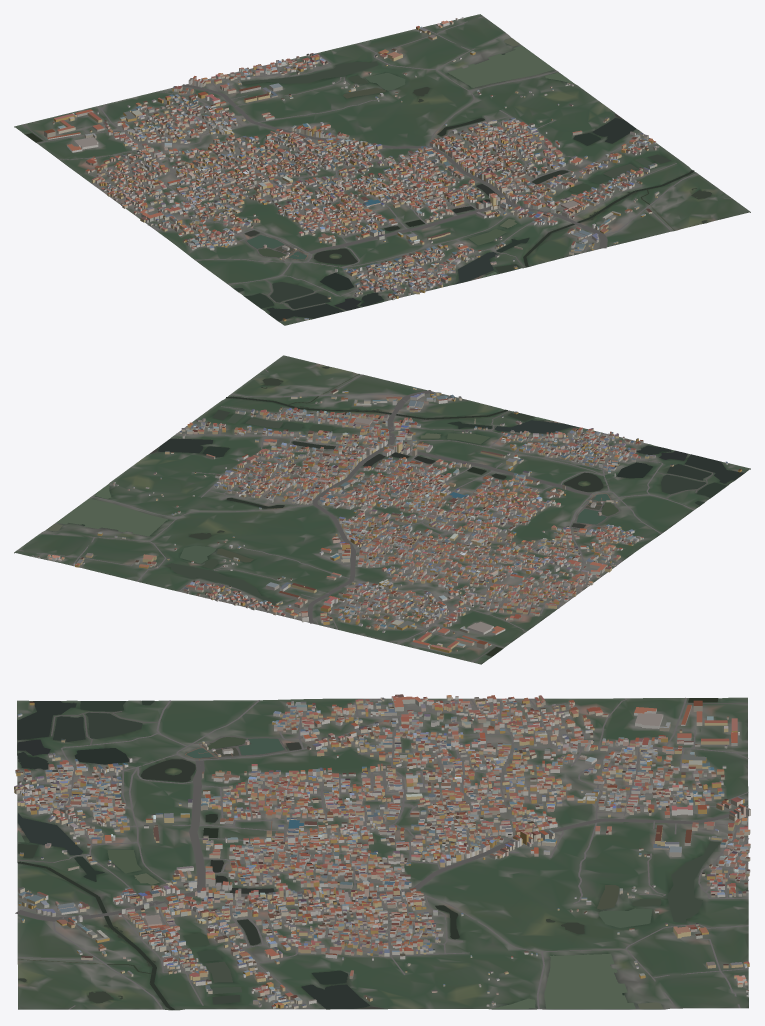
The picture shows the model from 3 angles, top to bottom: view 1: azimuth 30°, elevation 25°; view 2: azimuth 150°, elevation 25°; view 3: azimuth 270°, elevation 25°; orthographic projection. The views are drawn at different scales.
Visible parts, largest first — view 1: ground, buildings, water, roads; view 2: ground, buildings, water, roads; view 3: ground, buildings, water, roads.
Part boxes in pixels (x1,y1,x2,y2): ground: (14, 14, 750, 325); buildings: (44, 17, 659, 321); water: (25, 38, 711, 321); roads: (22, 16, 731, 309); ground: (14, 355, 750, 664); buildings: (32, 387, 741, 652); water: (46, 366, 743, 656); roads: (17, 369, 712, 662); ground: (17, 697, 748, 1010); buildings: (14, 694, 750, 1009); water: (17, 698, 720, 1010); roads: (15, 697, 748, 1009).
Size of the model in its own units: 1407 by 32.12 by 1414.
